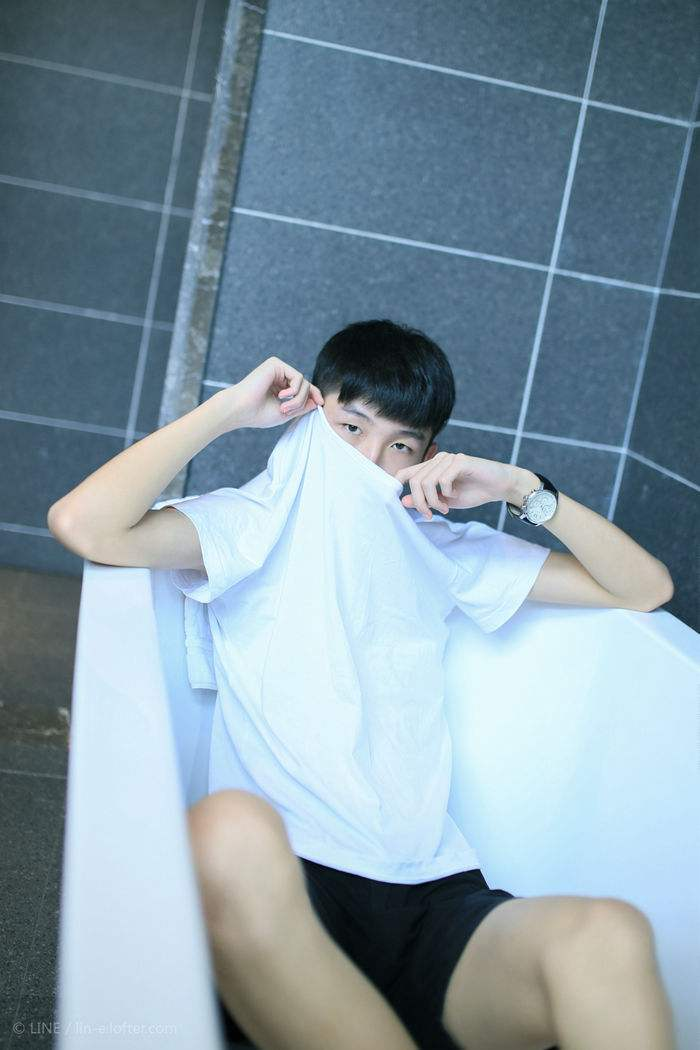person: (134, 257, 630, 957)
